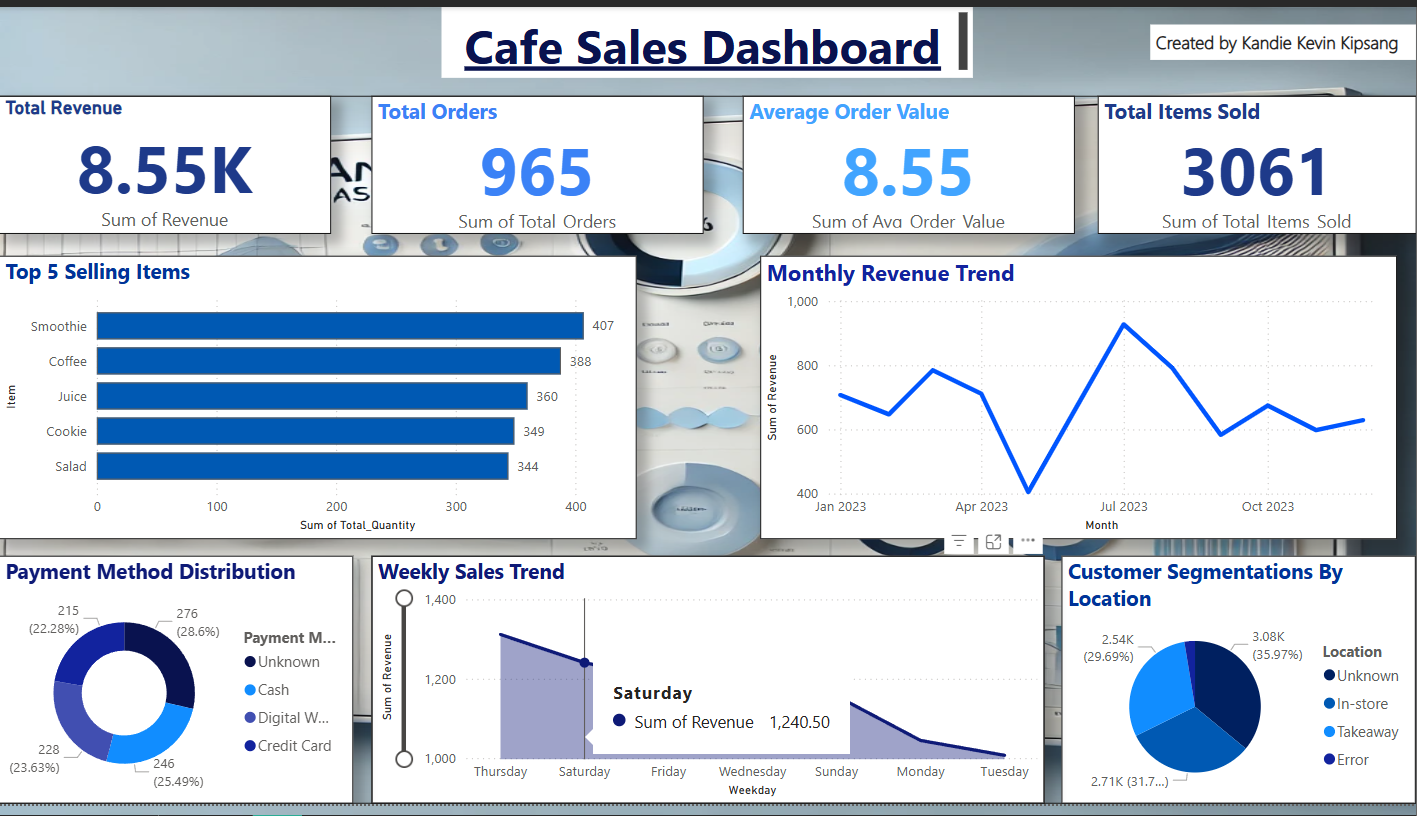

The dashboard page shown, as its layout file describes it:
{"tool":"powerbi","page":{"name":"Page 1","canvas":[1280,720],"ordinal":0},"visuals":[{"type":"textbox","box":[400,0,480,64],"z":0},{"type":"card","title":"Total Revenue","fields":{"Values":["Sum(Total Revenue By Location.Revenue)"]},"box":[0,80,300,125],"z":0,"group":"g3"},{"type":"textbox","box":[112,260,304,48],"z":0,"group":"g2"},{"type":"textbox","box":[1040,16,240,32],"z":1000},{"type":"group","id":"g1","title":"Group 2","box":[0,80,1280,640],"z":1000,"group":"g2"},{"type":"card","title":"Total Orders","fields":{"Values":["Sum(Total Orders by Payment Method.Total_Orders)"]},"box":[336,80,300,125],"z":1000,"group":"g3"},{"type":"group","id":"g2","title":"Group 1","box":[0,80,1280,640],"z":2000},{"type":"card","title":"Average Order Value","fields":{"Values":["Sum(Average Order Value.Avg_Order_Value)"]},"box":[672,80,300,125],"z":2000,"group":"g3"},{"type":"card","title":"Total Items Sold","fields":{"Values":["Sum(Total  Items Sold.Total_Items_Sold)"]},"box":[992,80,288,125],"z":3000,"group":"g3"},{"type":"lineChart","title":"Monthly Revenue Trend","fields":{"Category":["Total Sales By Month.Month"],"Y":["Sum(Total Sales By Month.Total_Sales)"]},"box":[688,224,575,256],"z":4000,"group":"g3"},{"type":"clusteredBarChart","title":"Top 5 Selling Items","fields":{"Category":["Top 5 selling Products.Item"],"Y":["Sum(Top 5 selling Products.Total_Quantity)"]},"box":[0,224,576,256],"z":5000,"group":"g3"},{"type":"pieChart","title":" Customer Segmentations By Location","fields":{"Category":["Total Revenue By Location.Location"],"Y":["Sum(Total Revenue By Location.Revenue)"]},"box":[960,496,320,224],"z":6000,"group":"g3"},{"type":"group","id":"g3","title":"Group 3","box":[0,80,1280,640],"z":6007,"group":"g1"},{"type":"stackedAreaChart","title":" Weekly Sales Trend","fields":{"Category":["Total Revenue by weekday.Weekday"],"Y":["Sum(Total Revenue by weekday.Revenue)"]},"box":[336,496,608,224],"z":7000,"group":"g3"},{"type":"donutChart","title":"Payment Method Distribution","fields":{"Category":["Total Orders by Payment Method.Payment Method"],"Y":["Sum(Total Orders by Payment Method.Total_Orders)"]},"box":[0,496,320,224],"z":8000,"group":"g3"}]}

Visuals, with their boxes in screenshot pixels (x1, y1, x2, y2), scaled from the page's 1280x720 canvas onto the 1417x816 screenshot:
textbox: crop(443, 0, 974, 73)
"Total Revenue" card: crop(0, 91, 332, 232)
textbox: crop(124, 295, 461, 349)
textbox: crop(1151, 18, 1416, 54)
"Group 2" group: crop(0, 91, 1416, 815)
"Total Orders" card: crop(372, 91, 704, 232)
"Group 1" group: crop(0, 91, 1416, 815)
"Average Order Value" card: crop(744, 91, 1076, 232)
"Total Items Sold" card: crop(1098, 91, 1416, 232)
"Monthly Revenue Trend" lineChart: crop(762, 254, 1398, 544)
"Top 5 Selling Items" clusteredBarChart: crop(0, 254, 638, 544)
" Customer Segmentations By Location" pieChart: crop(1063, 562, 1416, 815)
"Group 3" group: crop(0, 91, 1416, 815)
" Weekly Sales Trend" stackedAreaChart: crop(372, 562, 1045, 815)
"Payment Method Distribution" donutChart: crop(0, 562, 354, 815)
